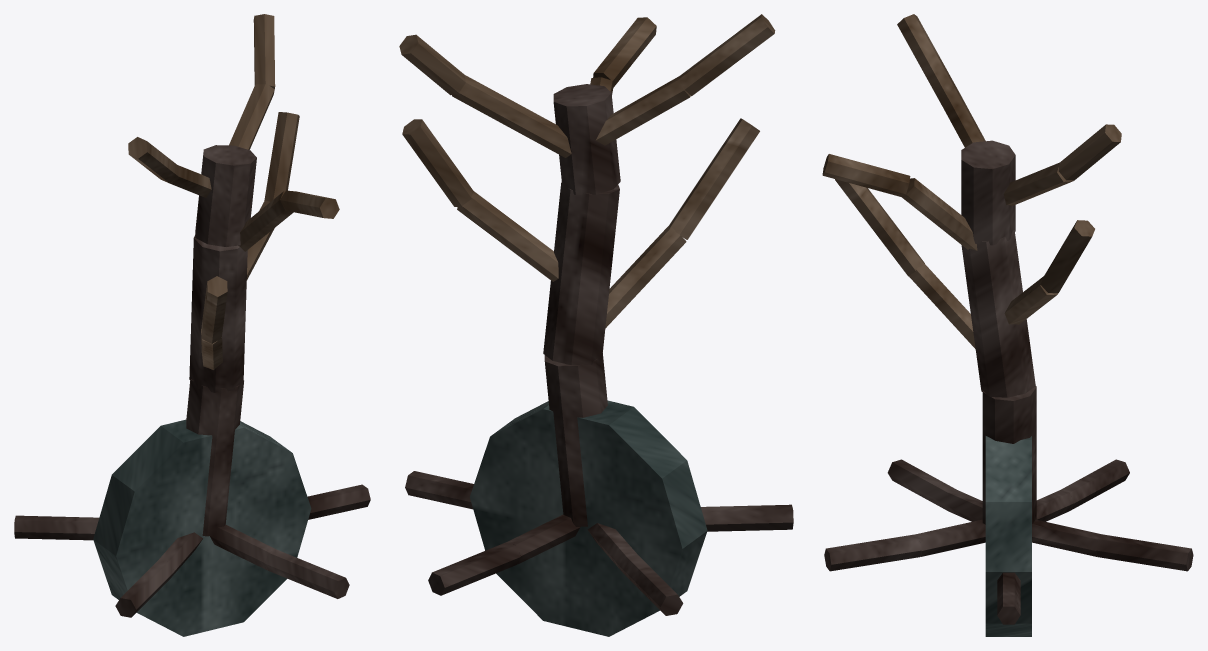
The model's file is 0148_dead_tree_23.glb.
3 views of the same model, side by side, from view 1: azimuth 30°, elevation 25°; view 2: azimuth 150°, elevation 25°; view 3: azimuth 270°, elevation 25° (orthographic). The views are drawn at different scales.
Parts seen in each view (by area): view 1: stone_dark, wood_dark, wood; view 2: stone_dark, wood_dark, wood; view 3: wood_dark, wood, stone_dark.
Part boxes in pixels (bbox=[...]): stone_dark: bbox=[93, 419, 311, 636]; wood_dark: bbox=[14, 145, 370, 617]; wood: bbox=[128, 14, 339, 369]; stone_dark: bbox=[470, 400, 707, 636]; wood_dark: bbox=[405, 84, 793, 615]; wood: bbox=[399, 14, 775, 328]; wood_dark: bbox=[824, 140, 1193, 624]; wood: bbox=[822, 14, 1121, 348]; stone_dark: bbox=[985, 436, 1031, 636].
Size of the model in its own units: 1.66 by 2.88 by 1.75.
3 materials, 3 textured.
